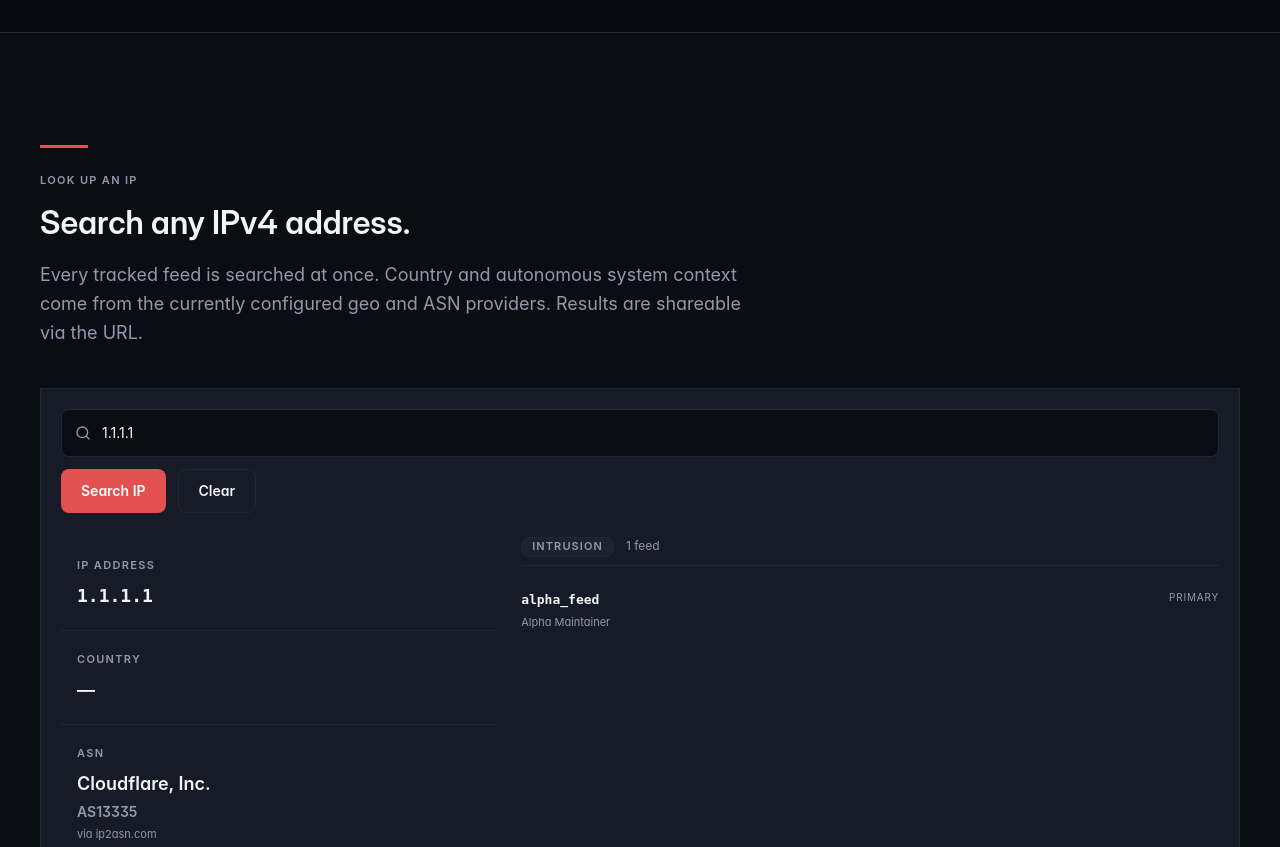
Scenario: hydrates the IP lookup from the URL and clears the visible result
(page scrolled)
Expected: the search field named "search ip address across all feeds" holds "1.1.1.1", [61, 409, 1219, 457]
Expected: the text "Cloudflare, Inc." is shown, [77, 770, 211, 798]
Click the button "Clear" at (217, 491), box [178, 469, 256, 513]
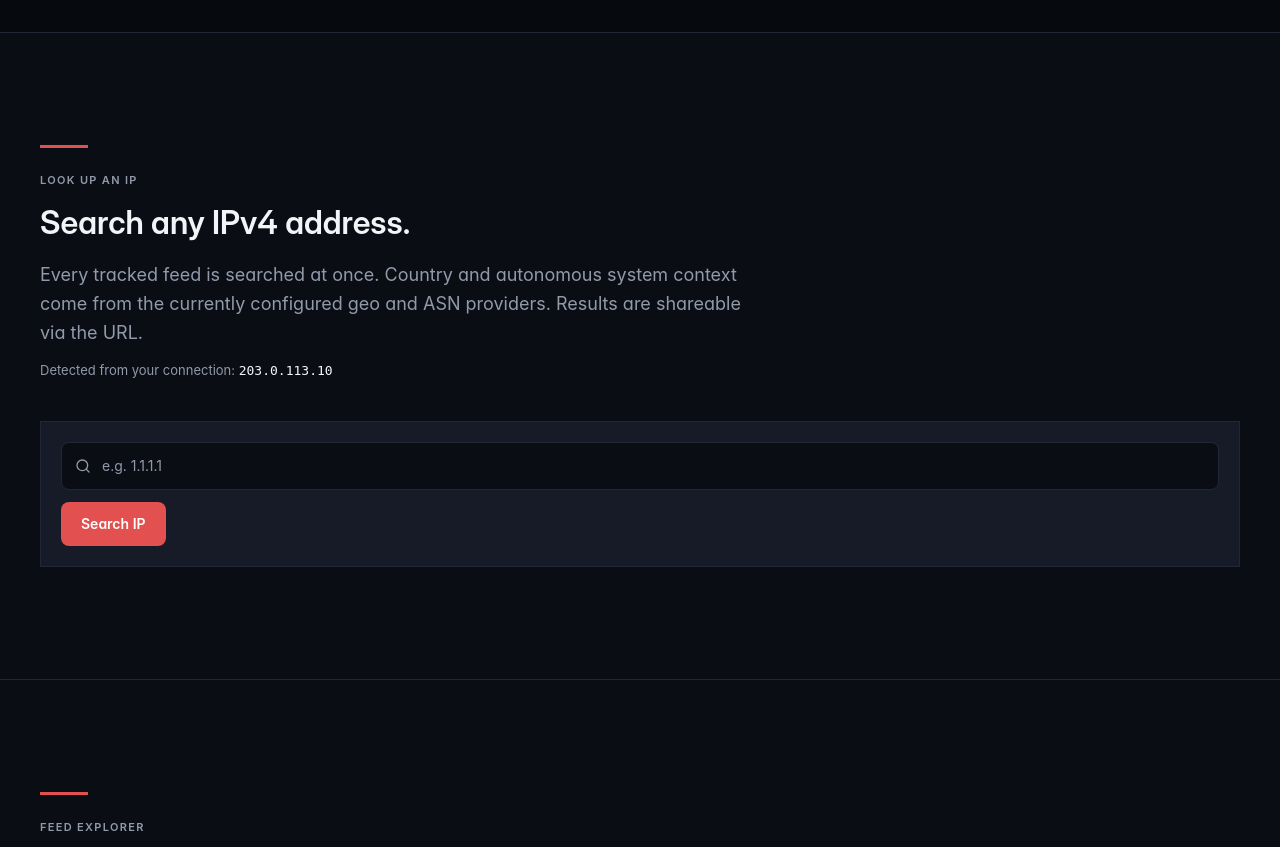
Result: the link "Cloudflare, Inc." is gone
Result: the search field named "search ip address across all feeds" is empty at [61, 442, 1219, 490]
